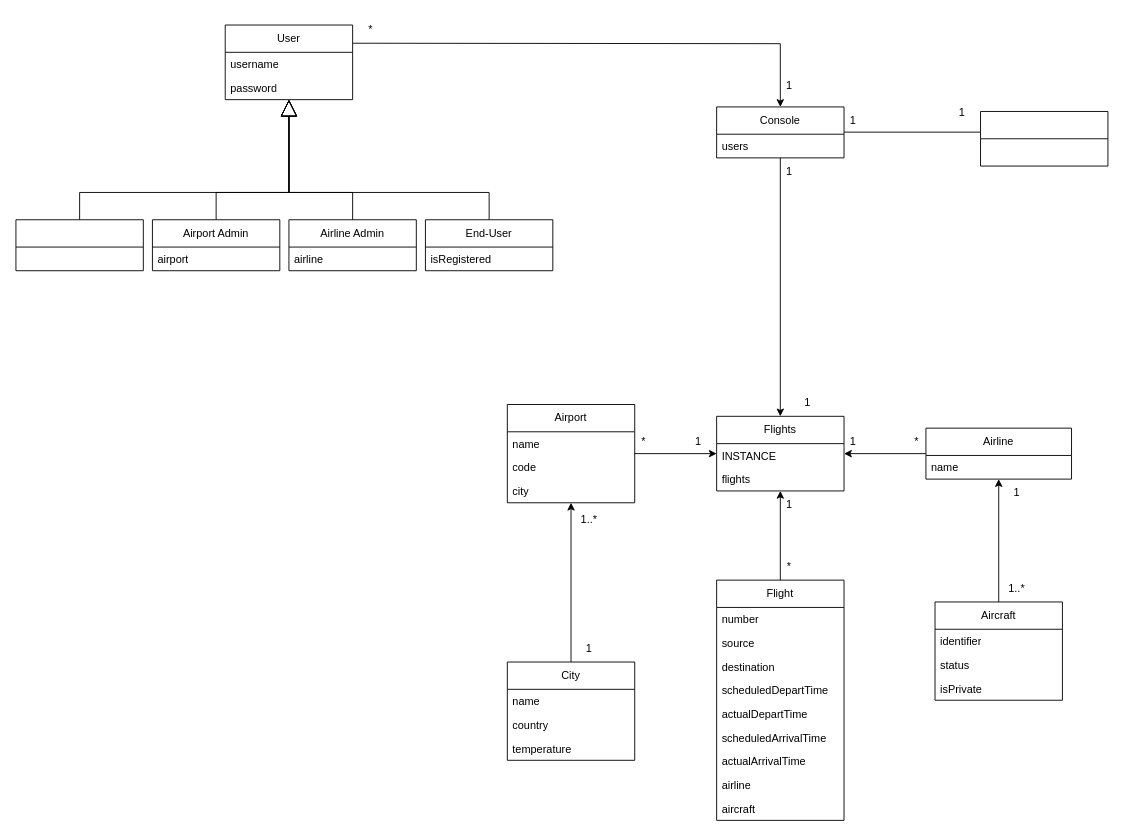
Image size: 1124x838. Some labels were removed from this diagram. The shapes that lost their labels are listed below. From the top down, each one's centre as x and y in pixels, then its label:
(1044,138): Authentication
(79,245): System Admin
